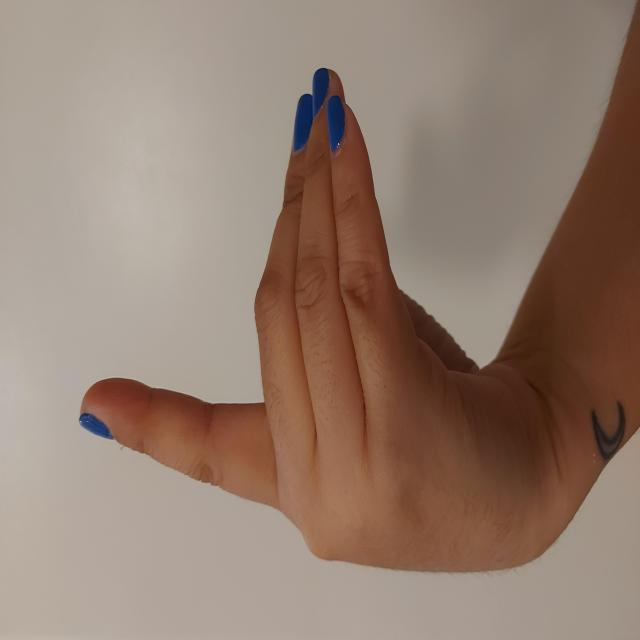D: (63, 76, 574, 538)
